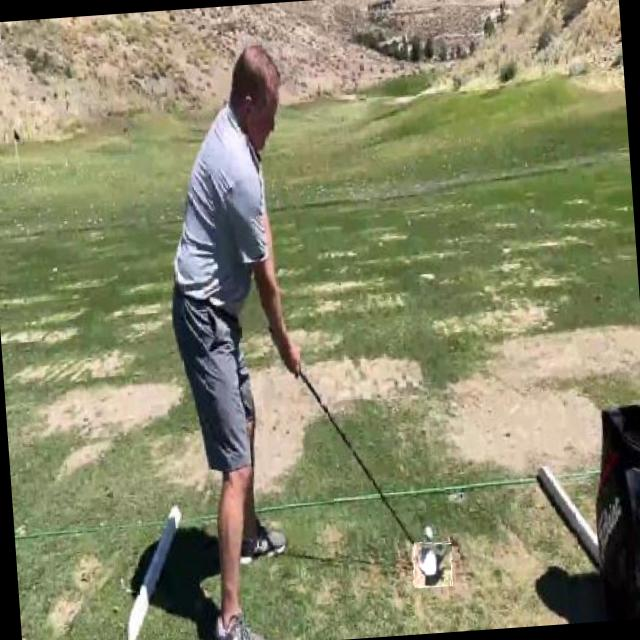club head: (411, 541, 453, 588)
